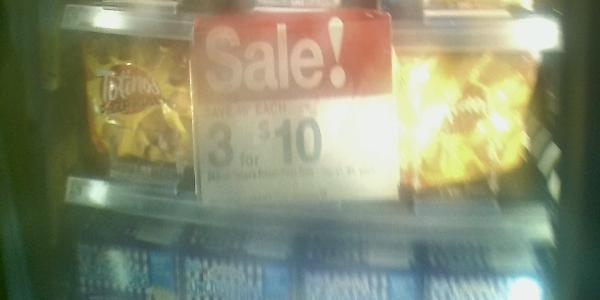icecream: (390, 46, 559, 208), (74, 36, 205, 187)
